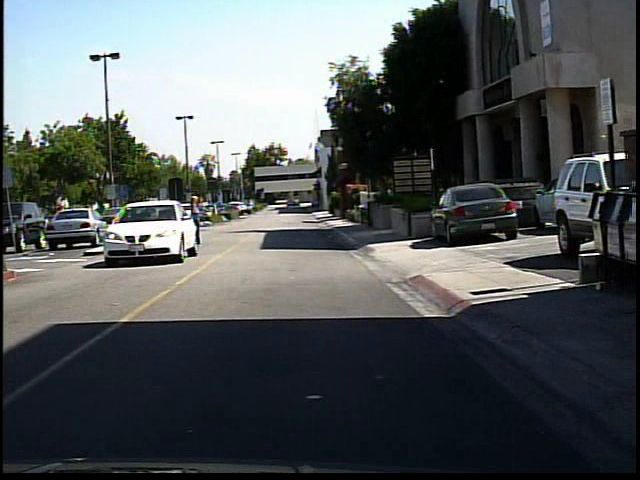person: (181, 191, 207, 249)
